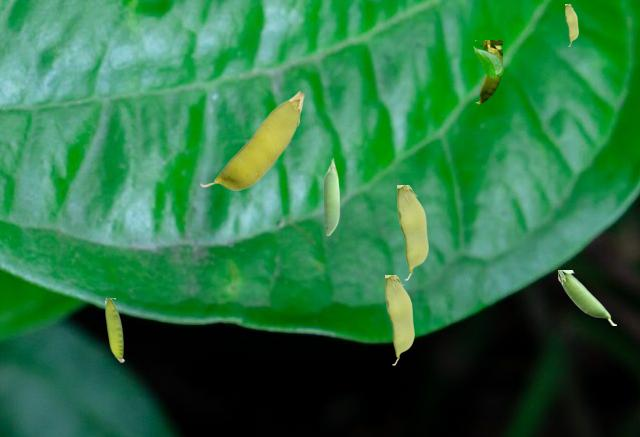pea: (200, 91, 303, 189), (558, 270, 615, 324), (397, 185, 427, 279), (385, 275, 413, 364), (475, 40, 501, 103), (323, 158, 338, 234), (105, 298, 123, 361), (565, 4, 577, 45)
